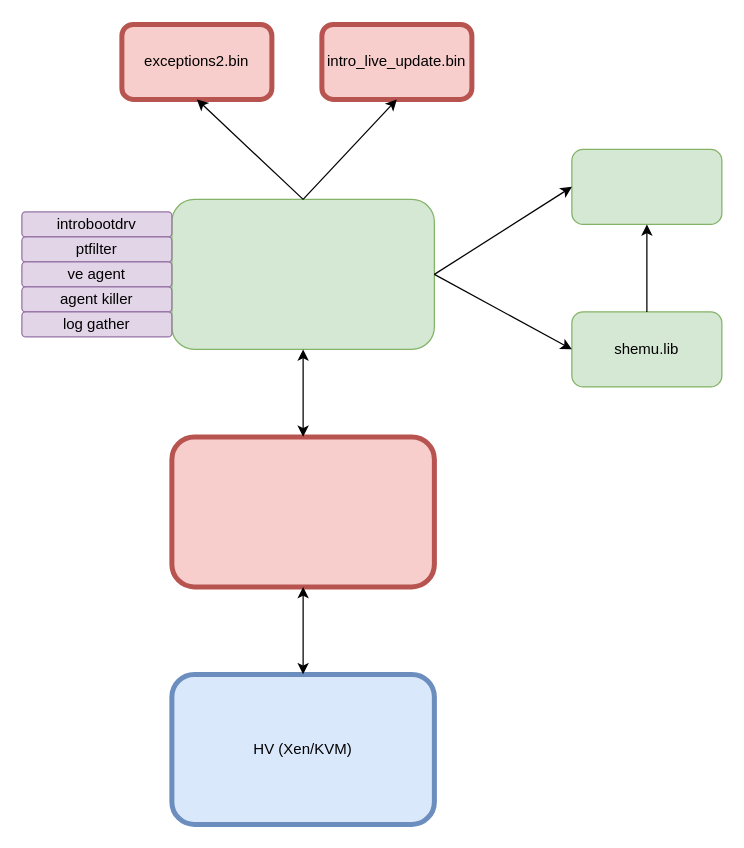
This 744x848 diagram has some shape labels left out. The box of each missing label's shape, as (x1, y1, x2, y2) in pixels:
bdmid: (169, 434, 436, 589)
disasm.lib: (571, 148, 722, 224)
libintrocore.so: (171, 198, 434, 349)
